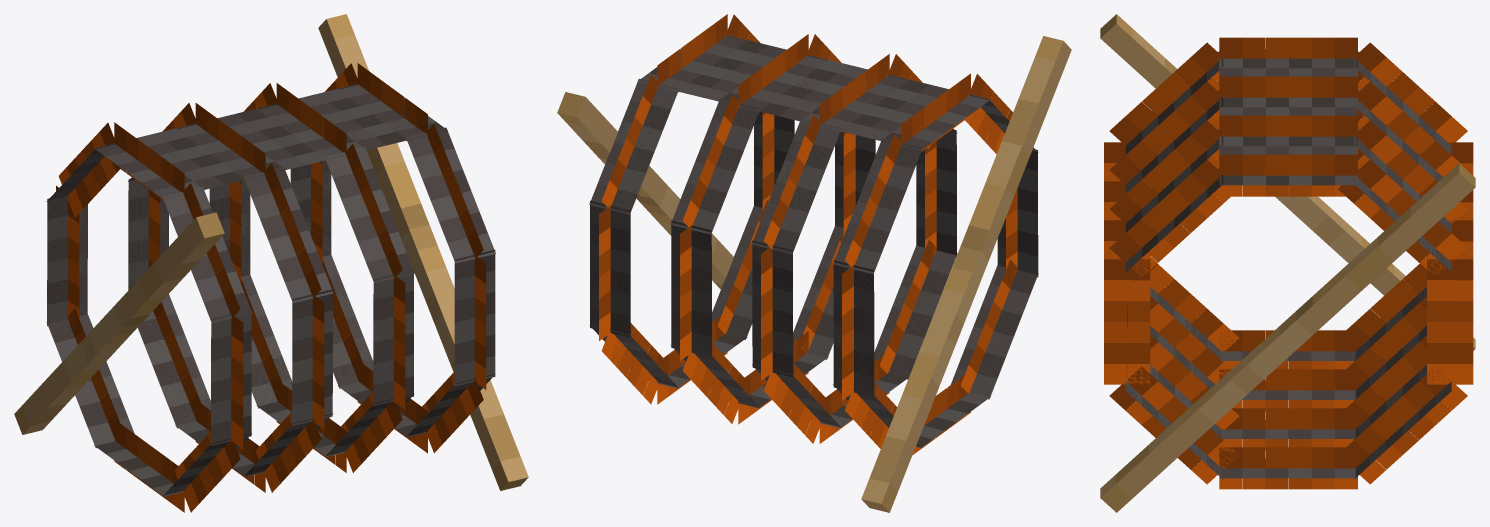
The model's file is barbed_wire_fire.obj.
3 views of the same model, side by side, from view 1: azimuth 30°, elevation 25°; view 2: azimuth 150°, elevation 25°; view 3: azimuth 270°, elevation 25° (orthographic).
Visible parts, largest first — view 1: cube; view 2: cube; view 3: cube.
Boxes of the visible parts, bbox=[...] form: cube: bbox=[14, 14, 528, 512]; cube: bbox=[557, 14, 1071, 512]; cube: bbox=[1100, 14, 1475, 512].
Bounding box in the file's own units: 1 × 1.03 × 1.02.
